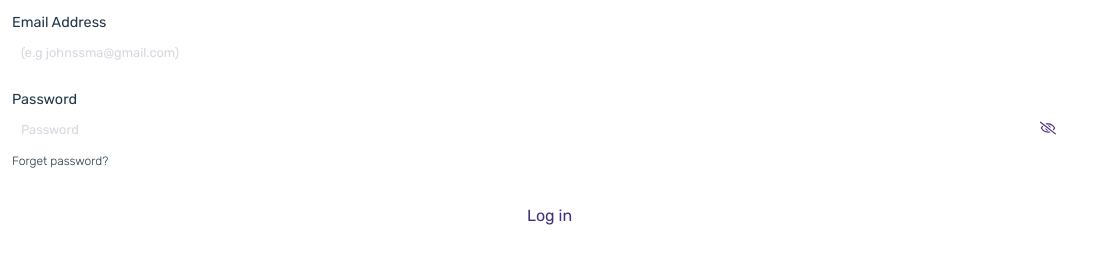
LoginForm › shows minLength error for password shorter than 8 characters
Type "test@test.com" into the field with placeholder "(e.g johnssma@gmail.com)" at (533, 53), box top-left (12, 34), bottom-right (1054, 71)
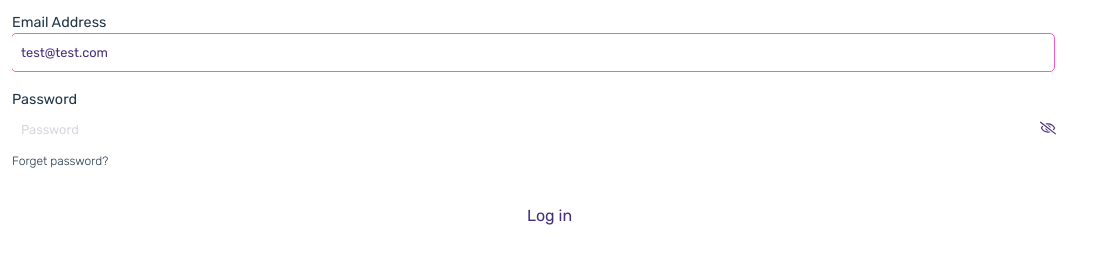
Type "short" into the password field with placeholder "Password" at (533, 130), box top-left (12, 111), bottom-right (1054, 148)
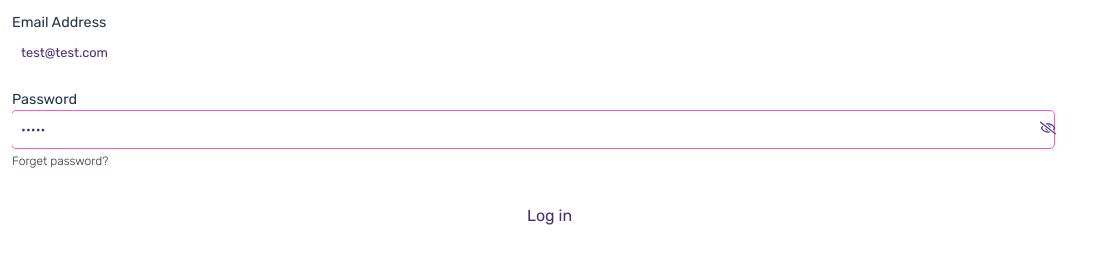
Click the button at (550, 216), box top-left (12, 196), bottom-right (1087, 236)
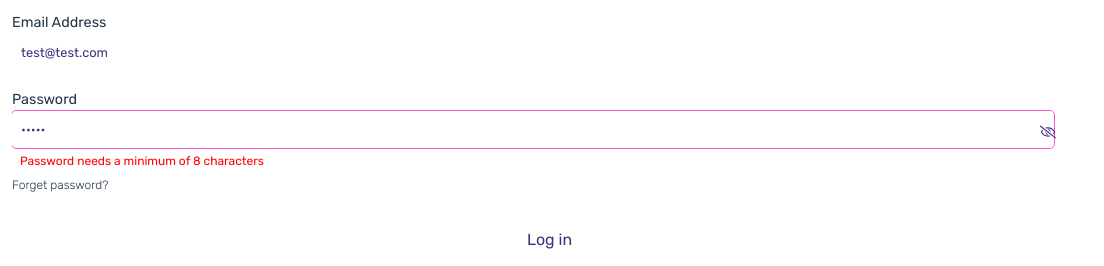
Now the text "Password needs a minimum of 8 characters" is shown, box top-left (12, 154), bottom-right (264, 168)
